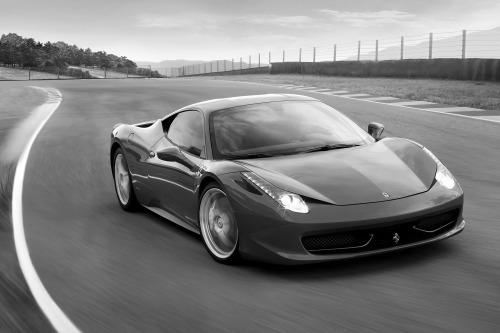car: (109, 89, 467, 280)
